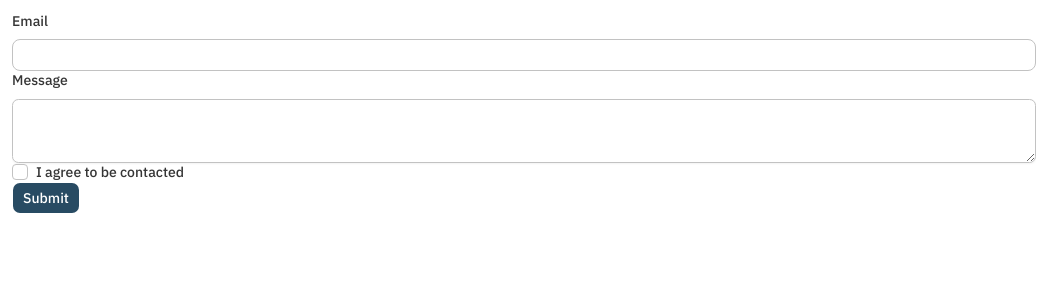
Test: Field-based form adapters › blocks submission and surfaces zod error messages for invalid input
Click the button "Submit".
click(46, 198)  # box [12,182,80,214]
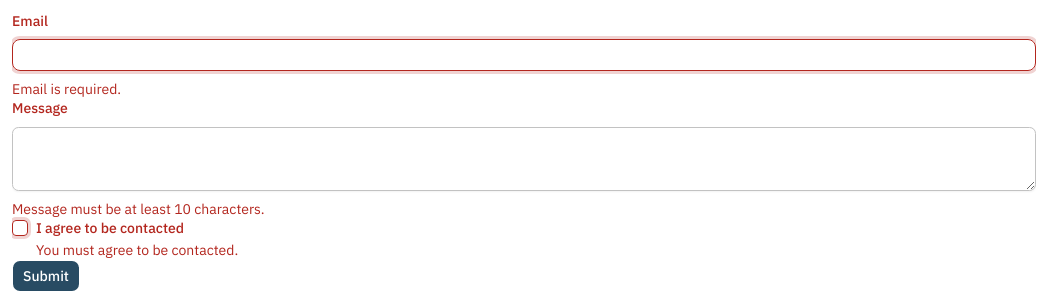
Check: the text "Email is required." is shown, box [12,80,121,98]
Check: the text "Message must be at least 10 characters." is shown, box [12,200,265,218]
Check: the text "You must agree to be contacted." is shown, box [36,241,238,259]
